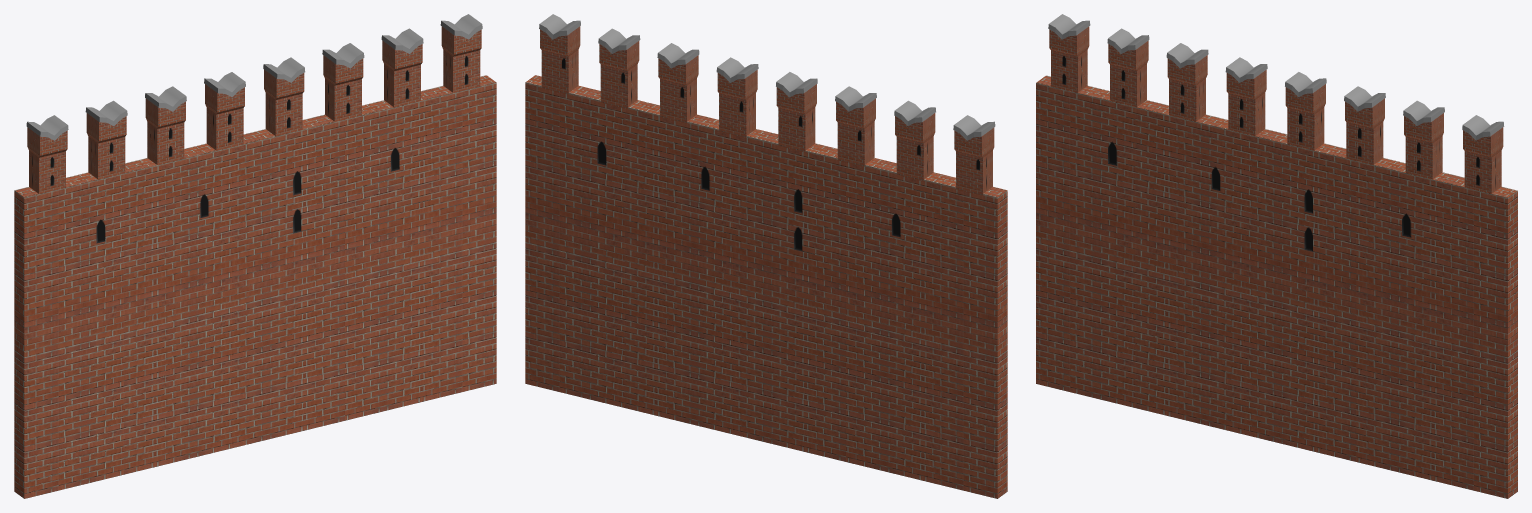
The model's file is wall 2.FBX.
3 renders of one model, left to right at view 1: azimuth 30°, elevation 25°; view 2: azimuth 150°, elevation 25°; view 3: azimuth 330°, elevation 25°, orthographic.
Visible parts, largest first — view 1: Box001; view 2: Box001; view 3: Box001.
Boxes of the visible parts, x1,y1,x2,y2 form: Box001: (14, 14, 496, 498); Box001: (525, 14, 1007, 498); Box001: (1036, 14, 1517, 498).
Bounding box in the file's own units: 4.37 × 3.23 × 0.2331.
Materials: 3 (2 with a texture image).
